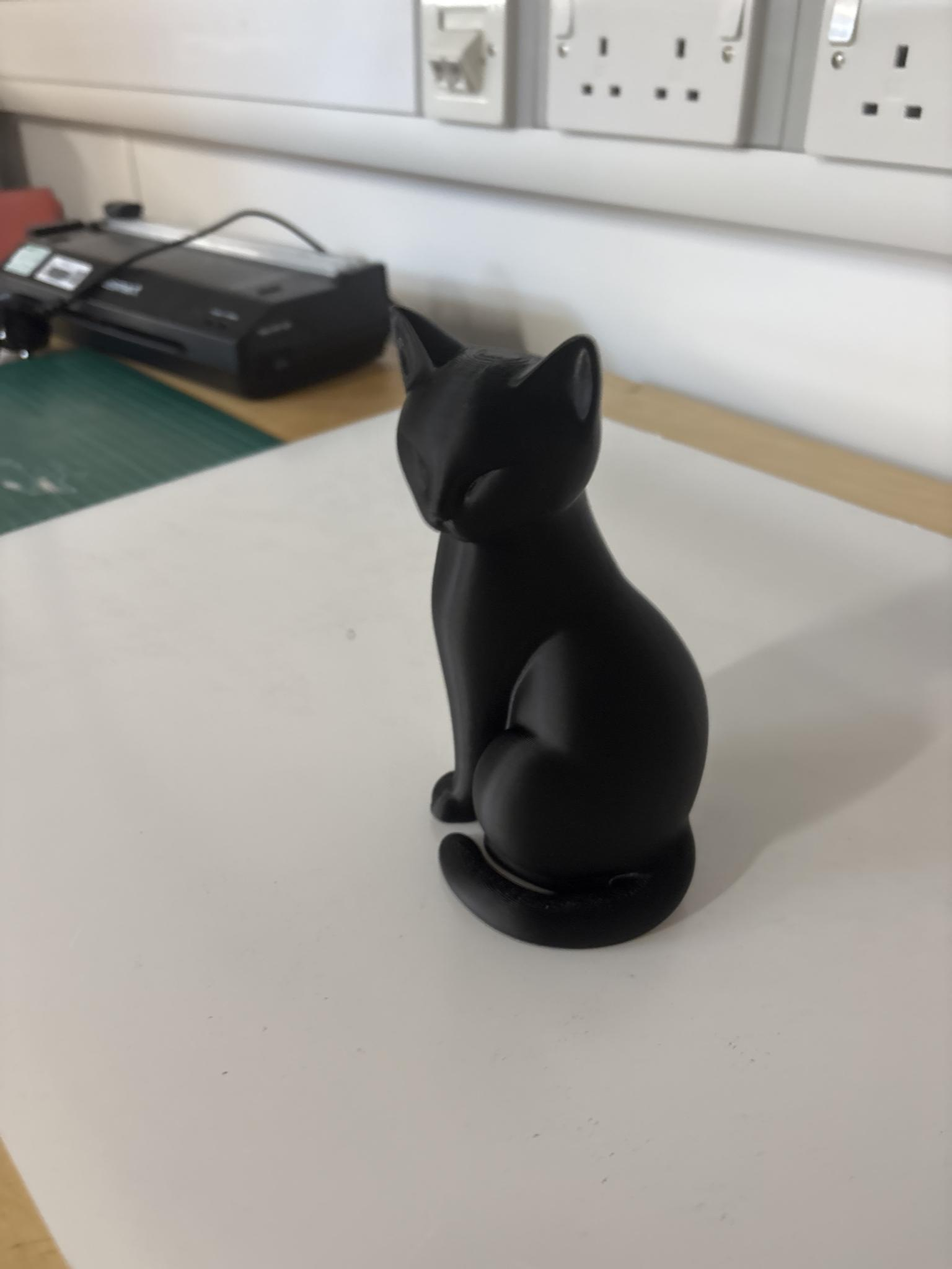cat: (394, 309, 707, 946)
